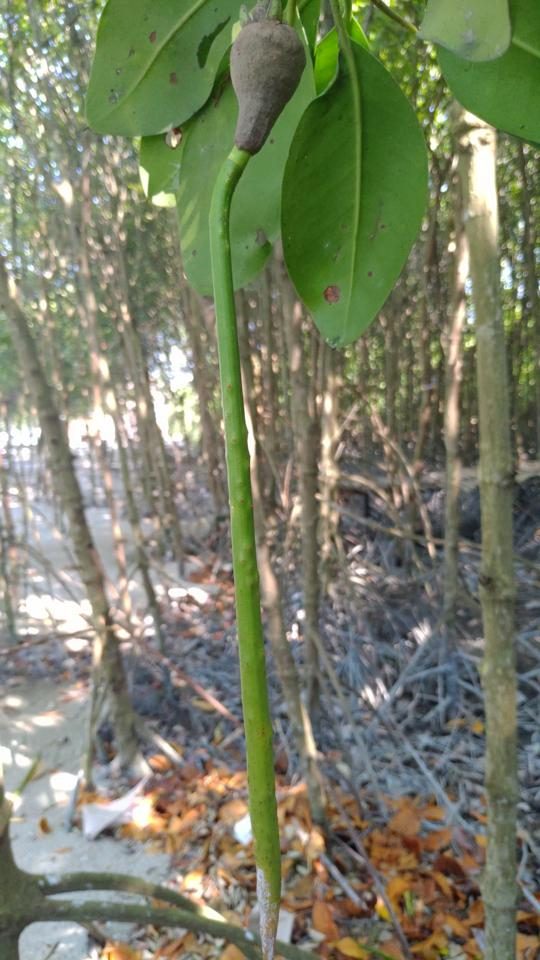setengah matang: (187, 14, 319, 953)
